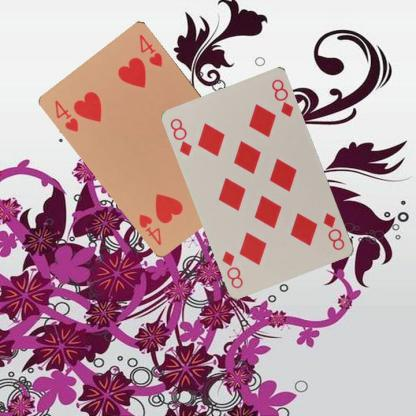4h: (52, 97, 80, 134)
8d: (168, 116, 194, 158), (321, 210, 346, 252)
